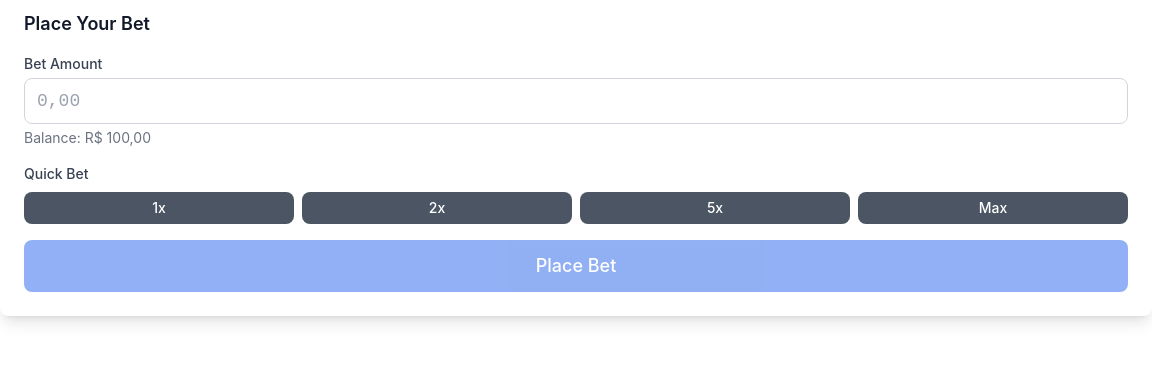
Test: BetForm - Preservation Tests (Task 1.5) › Requirement 3.1, 3.2: Validation messages display correctly › displays validation error for amount below minimum
In the field named "Enter bet amount in reais": [576, 101] box left=24, top=78, right=1128, bottom=124, type "0,50"
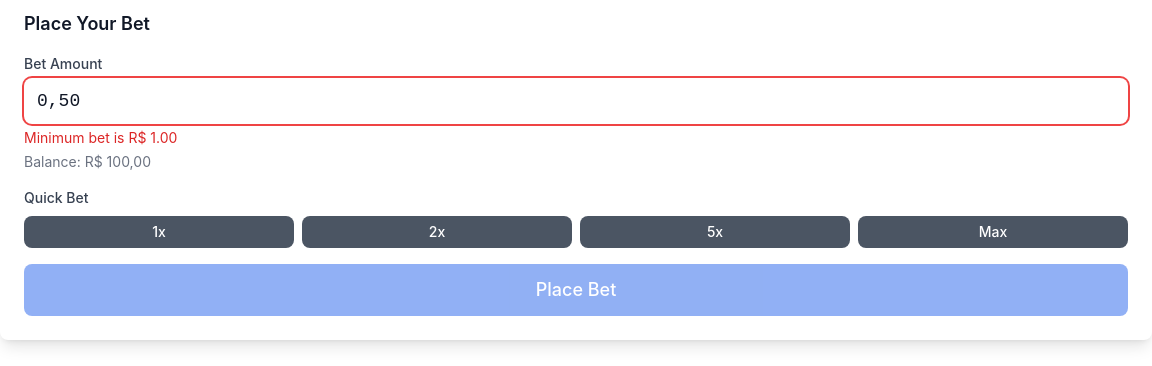
Expected: the button "Place Bet" is disabled, left=24, top=264, right=1128, bottom=316
Expected: the text "Minimum bet is R$ 1.00" is shown, left=24, top=129, right=177, bottom=146
